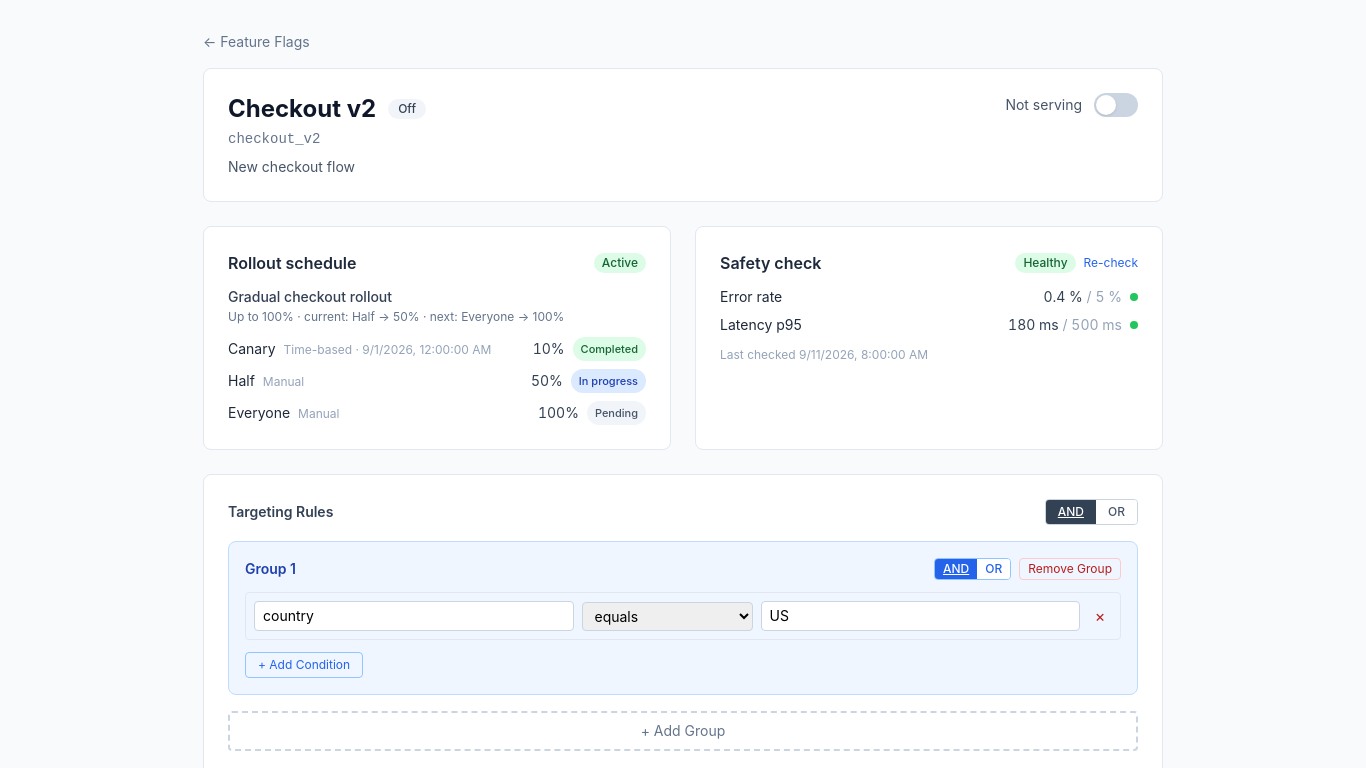
FeatureFlagDetailPage › turns the flag on through POST /enable and updates the pill
Step 1. Click the switch with test id "flag-toggle" → (1116, 105), box [1094, 93, 1138, 117]
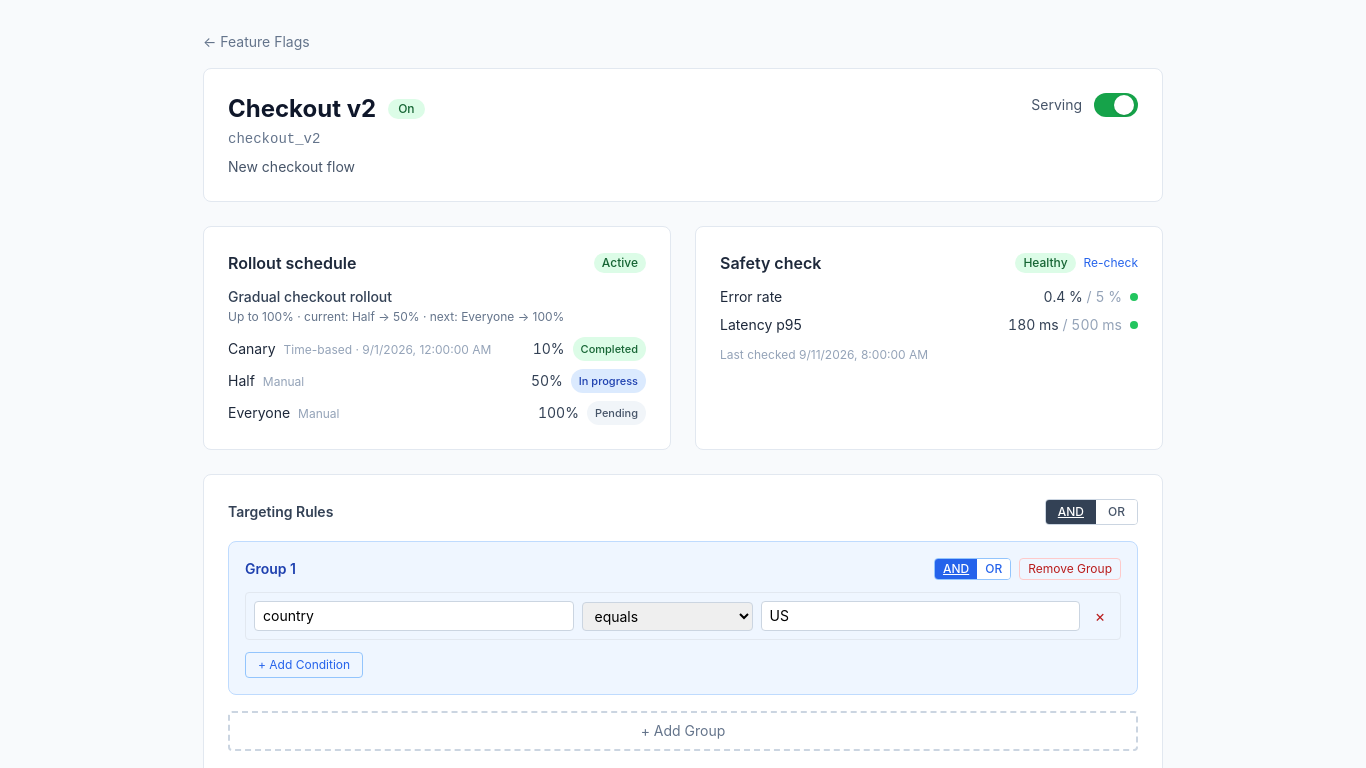
Check: the text with test id "flag-status" reads "On", box [398, 101, 414, 116]
